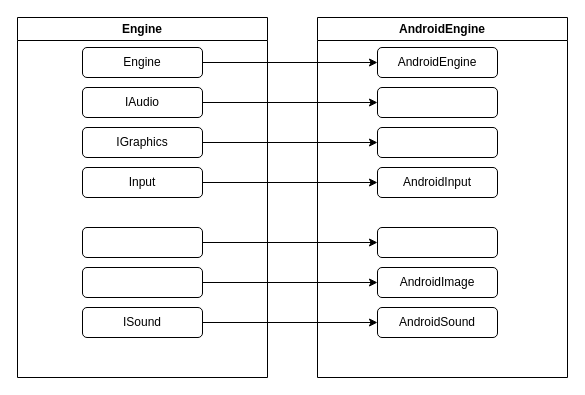
The diagram is 585 pixels wide and 395 high, and some of its shapes have lost their labels. Each missing label, with the centre of its shape:
AndroidAudio: (x=437, y=102)
AndroidFont: (x=437, y=242)
AndroidGraphics: (x=437, y=142)
IFont: (x=142, y=242)
IImage: (x=142, y=282)
